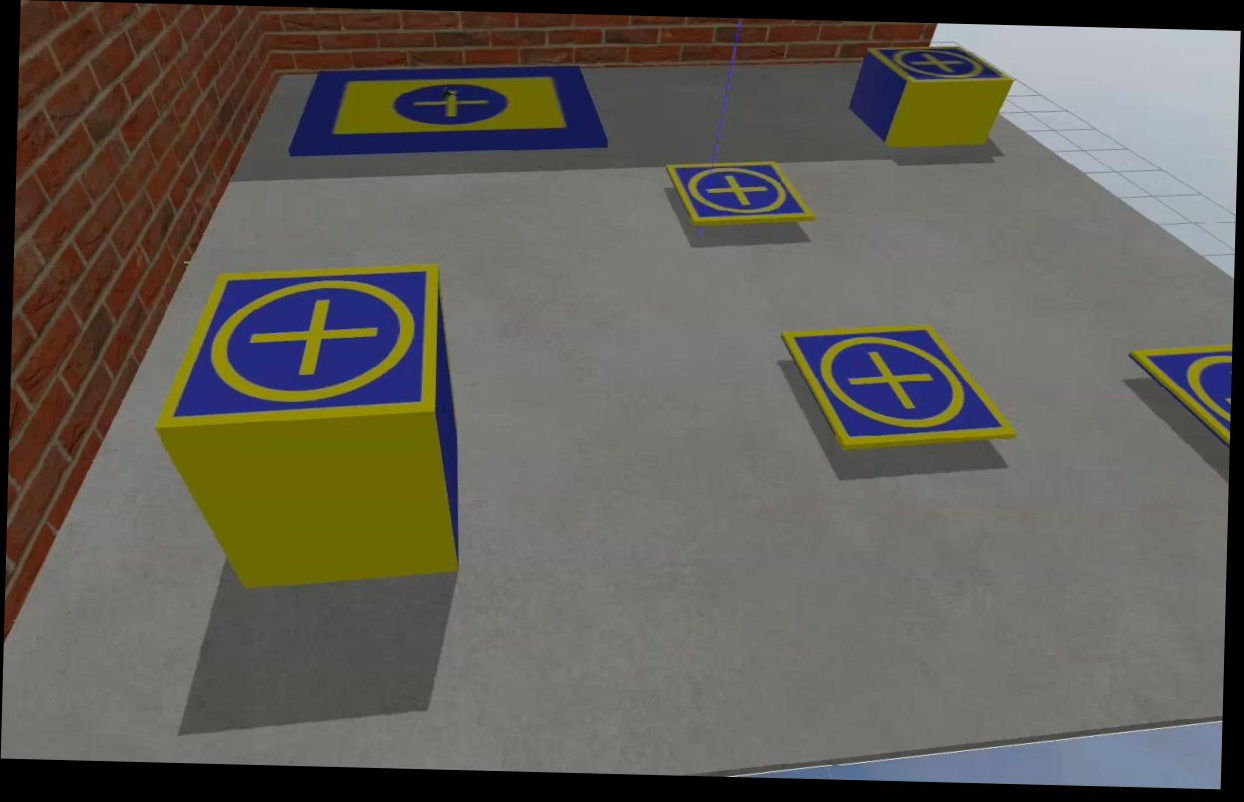large_base: (286, 61, 613, 166)
small_base: (151, 254, 440, 437), (781, 325, 1022, 452), (1123, 344, 1235, 446), (665, 160, 815, 228), (861, 42, 1015, 89)
